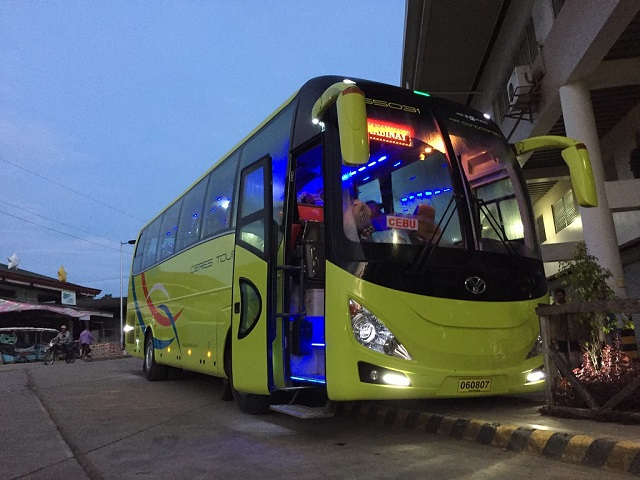bike: (46, 340, 78, 364)
bus: (127, 76, 551, 415)
person: (79, 327, 93, 359), (55, 324, 70, 348)
